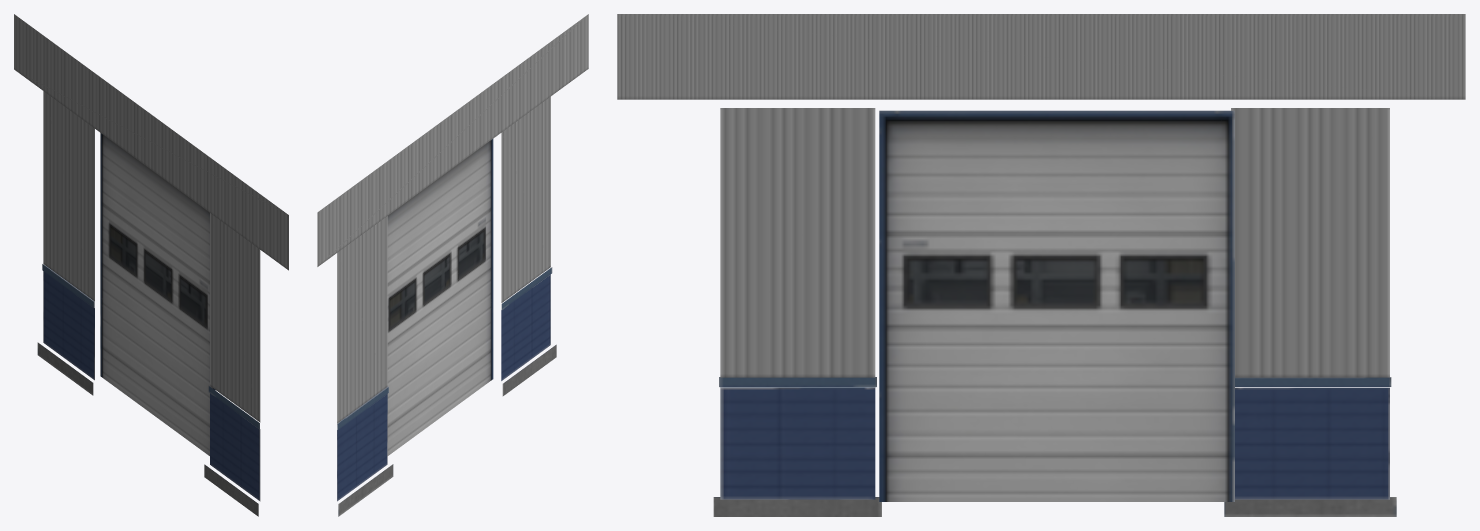
The model's file is door_and_wall.fbx.
The picture shows the model from 3 angles, left to right: view 1: azimuth 30°, elevation 25°; view 2: azimuth 150°, elevation 25°; view 3: azimuth 270°, elevation 25°; orthographic projection. The views are drawn at different scales.
Parts seen in each view (by area): view 1: Cube.002, Cube.005, Cube.003, Cube.004; view 2: Cube.002, Cube.005, Cube.003, Cube.004; view 3: Cube.002, Cube.005, Cube.004, Cube.003.
Boxes of the visible parts, left/top/right/bottom form: Cube.002: left=100, top=133, right=215, bottom=455; Cube.005: left=14, top=14, right=288, bottom=270; Cube.003: left=37, top=91, right=94, bottom=395; Cube.004: left=204, top=213, right=260, bottom=516; Cube.002: left=387, top=139, right=493, bottom=455; Cube.005: left=317, top=14, right=588, bottom=266; Cube.003: left=337, top=216, right=393, bottom=516; Cube.004: left=501, top=96, right=556, bottom=396; Cube.002: left=879, top=110, right=1234, bottom=501; Cube.005: left=617, top=14, right=1465, bottom=99; Cube.004: left=713, top=108, right=881, bottom=516; Cube.003: left=1224, top=108, right=1396, bottom=516.
Size of the model in its own units: 5.15 by 139 by 213.
Materials: 1 (1 with a texture image).
